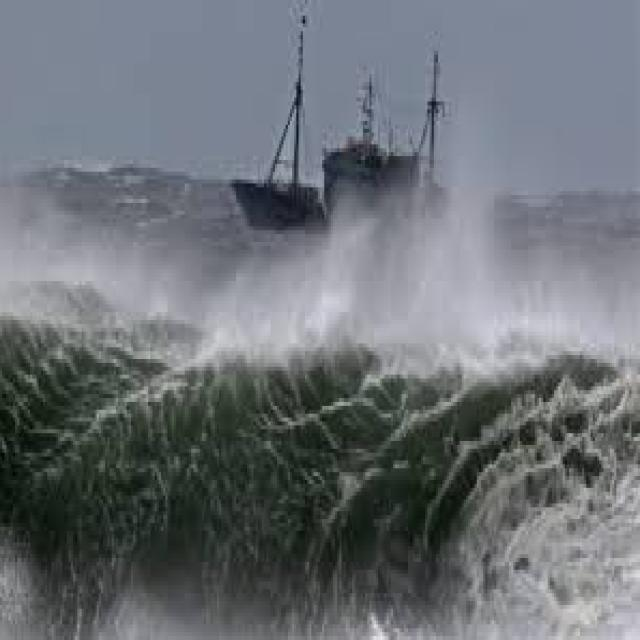fishing boat: (231, 34, 457, 256)
